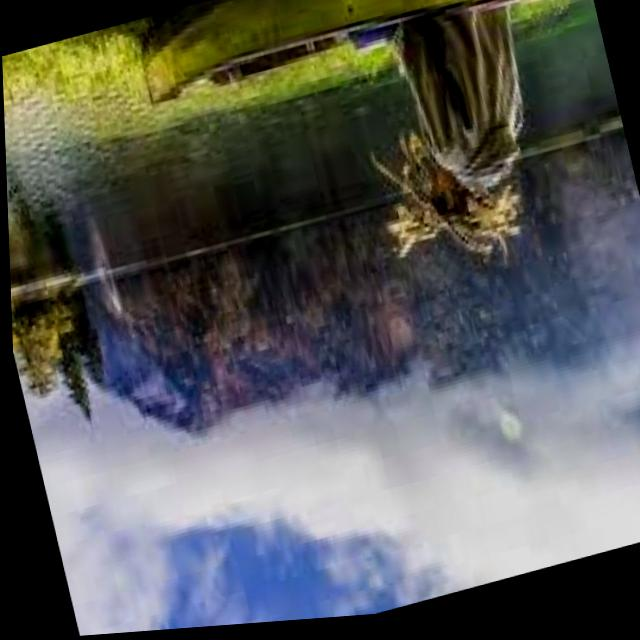ship2: (139, 0, 577, 107)
